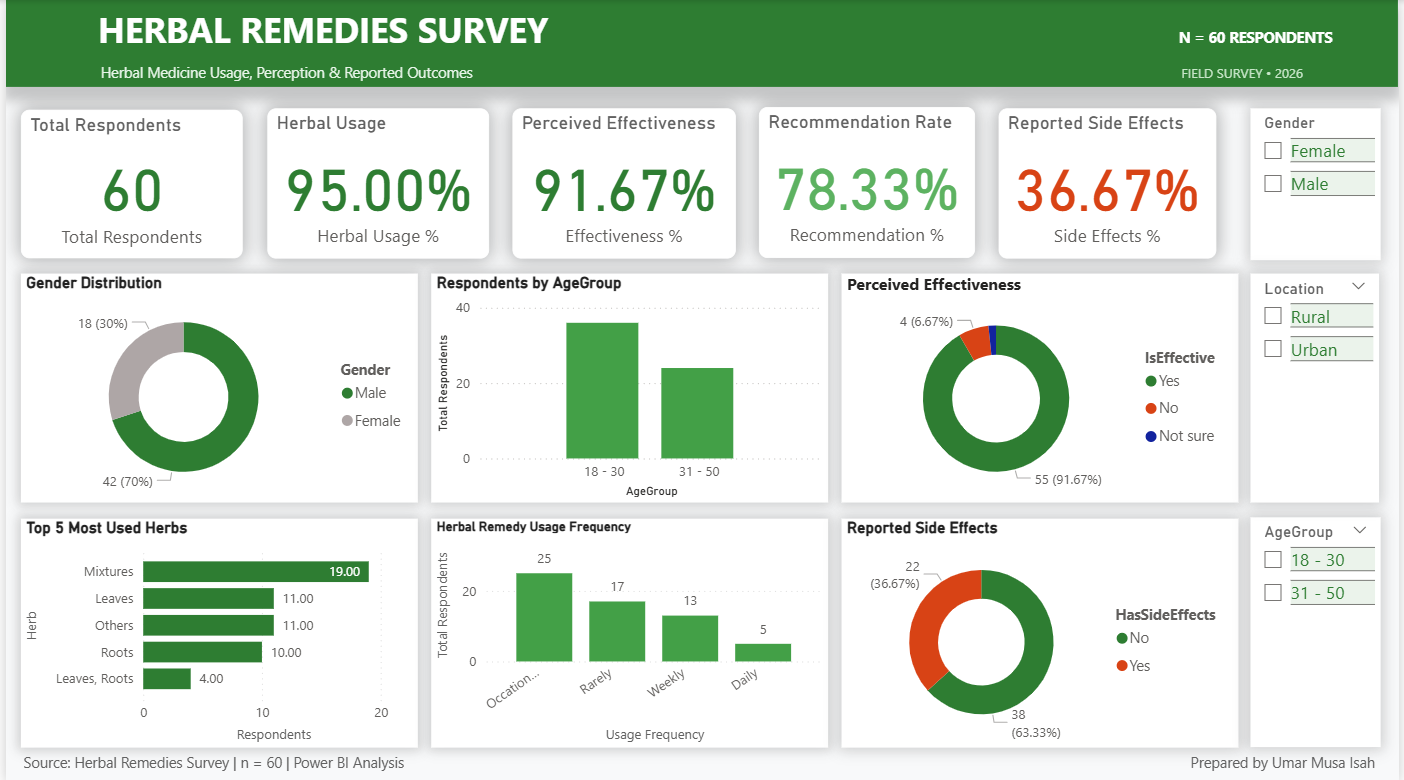

What the dashboard file says about the page in this screenshot:
{"tool":"powerbi","page":{"name":"Executive Dashboard","canvas":[1280,720],"ordinal":0},"visuals":[{"type":"shape","box":[0,0,1279.1,79.5],"z":0},{"type":"textbox","box":[79.6,0,1148.7,54.8],"z":1000},{"type":"textbox","box":[82.1,52.3,1146.2,27.4],"z":2000},{"type":"card","title":"Total Respondents","fields":{"Values":["Measures_View.Total Respondents"]},"box":[13,100.2,204.3,139.2],"z":3000},{"type":"card","title":"Herbal Usage","fields":{"Values":["Measures_View.Herbal Usage %"]},"box":[239.4,98.9,204.3,140.5],"z":4000},{"type":"card","title":"Perceived Effectiveness","fields":{"Values":["Measures_View.Effectiveness %"]},"box":[465.9,98.9,204.3,140.5],"z":5000},{"type":"card","title":"Recommendation Rate","fields":{"Values":["Measures_View.Recommendation %"]},"box":[692.3,97.6,199.1,141.8],"z":6000},{"type":"card","title":"Reported Side Effects","fields":{"Values":["Measures_View.Side Effects %"]},"box":[912,99.4,200.2,137.9],"z":7000},{"type":"donutChart","title":"Gender Distribution","fields":{"Category":["Fact_HerbalSurvey.Gender"],"Y":["Measures_View.Total Respondents"]},"box":[13.7,251.4,364.6,210.3],"z":8000},{"type":"clusteredColumnChart","title":"Respondents by AgeGroup","fields":{"Category":["Fact_HerbalSurvey.AgeGroup"],"Y":["Measures_View.Total Respondents"]},"box":[390.8,251.4,364.6,210.3],"z":9000},{"type":"barChart","title":"Top 5 Most Used Herbs","fields":{"Category":["Fact_HerbalSurvey.HerbsUsed"],"Y":["Measures_View.Total Respondents"]},"box":[13.7,476.6,364.6,210.3],"z":10000},{"type":"clusteredColumnChart","title":"Herbal Remedy Usage Frequency","fields":{"Category":["Fact_HerbalSurvey.UsageFrequency"],"Y":["Measures_View.Total Respondents"]},"box":[390.8,476.6,364.6,210.3],"z":11000},{"type":"donutChart","title":"Perceived Effectiveness","fields":{"Category":["Fact_HerbalSurvey.IsEffective"],"Y":["Measures_View.Total Respondents"]},"box":[767.9,251.4,364.6,210.3],"z":12000},{"type":"donutChart","title":"Reported Side Effects","fields":{"Category":["Fact_HerbalSurvey.HasSideEffects"],"Y":["Measures_View.Total Respondents"]},"box":[767.9,476.6,364.6,210.3],"z":13000},{"type":"slicer","fields":{"Values":["Fact_HerbalSurvey.Gender"]},"box":[1143.7,99.6,119.5,139.4],"z":14000},{"type":"slicer","fields":{"Values":["Fact_HerbalSurvey.AgeGroup"]},"box":[1143.7,475.4,119.5,211.6],"z":15000},{"type":"slicer","fields":{"Values":["Fact_HerbalSurvey.Location"]},"box":[1143.7,251.4,118.2,210.3],"z":16000},{"type":"textbox","box":[11.2,687,365.9,28.6],"z":17000},{"type":"textbox","box":[1081.5,687,181.7,31.1],"z":18000}]}

Visuals, with their boxes in screenshot pixels (x1, y1, x2, y2), scaled from the page's 1280x720 canvas onto the 1404x780 screenshot:
shape: bbox=(0, 0, 1403, 86)
textbox: bbox=(87, 0, 1347, 59)
textbox: bbox=(90, 57, 1347, 86)
"Total Respondents" card: bbox=(14, 109, 238, 259)
"Herbal Usage" card: bbox=(263, 107, 487, 259)
"Perceived Effectiveness" card: bbox=(511, 107, 735, 259)
"Recommendation Rate" card: bbox=(759, 106, 978, 259)
"Reported Side Effects" card: bbox=(1000, 108, 1220, 257)
"Gender Distribution" donutChart: bbox=(15, 272, 415, 500)
"Respondents by AgeGroup" clusteredColumnChart: bbox=(429, 272, 829, 500)
"Top 5 Most Used Herbs" barChart: bbox=(15, 516, 415, 744)
"Herbal Remedy Usage Frequency" clusteredColumnChart: bbox=(429, 516, 829, 744)
"Perceived Effectiveness" donutChart: bbox=(842, 272, 1242, 500)
"Reported Side Effects" donutChart: bbox=(842, 516, 1242, 744)
slicer - Fact_HerbalSurvey.Gender: bbox=(1254, 108, 1386, 259)
slicer - Fact_HerbalSurvey.AgeGroup: bbox=(1254, 515, 1386, 744)
slicer - Fact_HerbalSurvey.Location: bbox=(1254, 272, 1384, 500)
textbox: bbox=(12, 744, 414, 775)
textbox: bbox=(1186, 744, 1386, 778)
